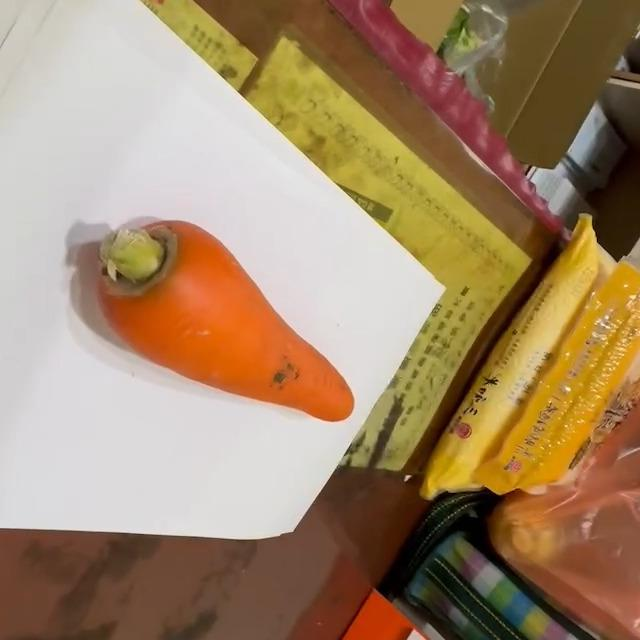carrot: (95, 220, 355, 428)
